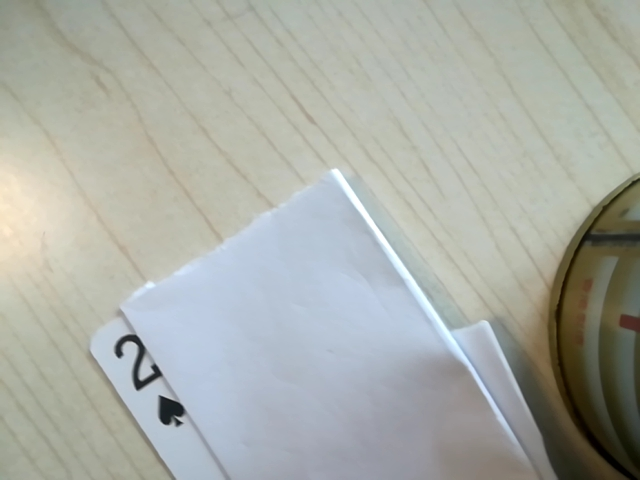ht 2: (103, 316, 194, 441)
